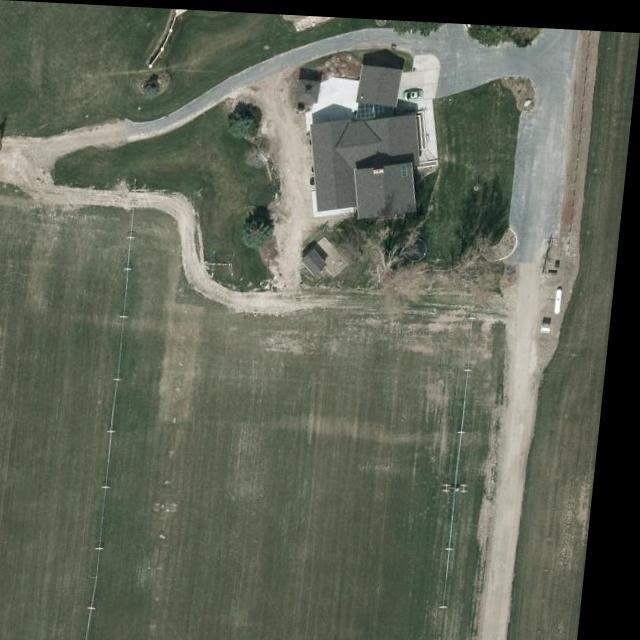vehicle: (403, 86, 426, 98)
